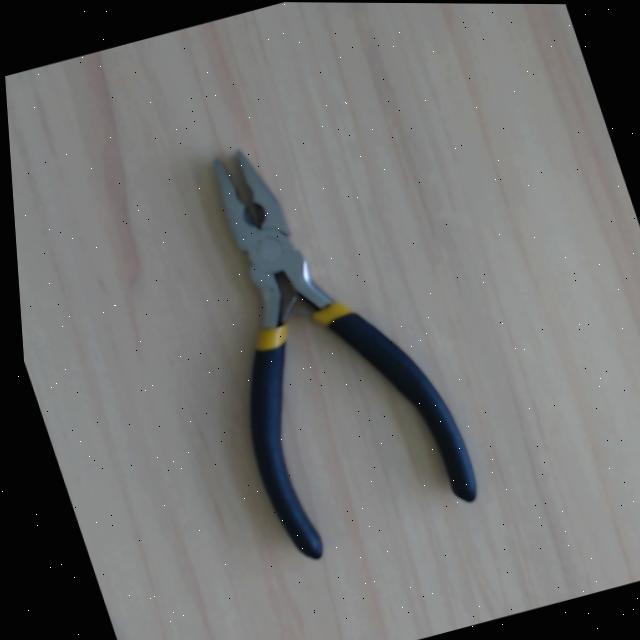Tang-Jepit-Hitam: (152, 112, 482, 565)
